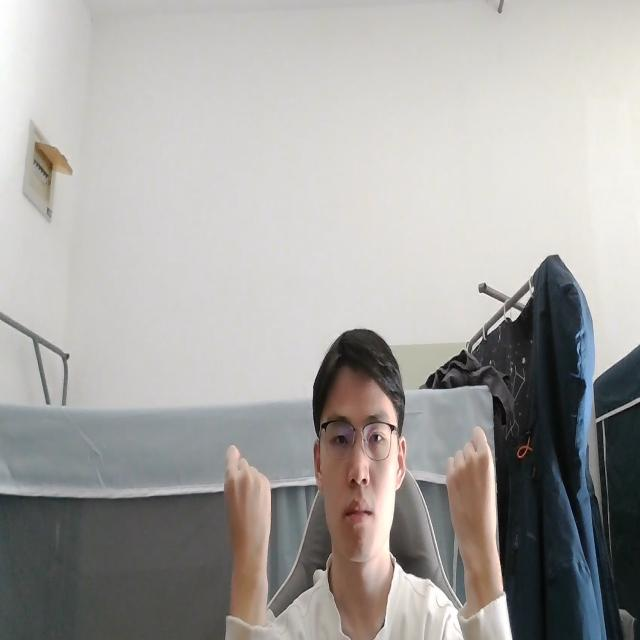ten: (442, 418, 504, 568), (221, 440, 273, 568)
